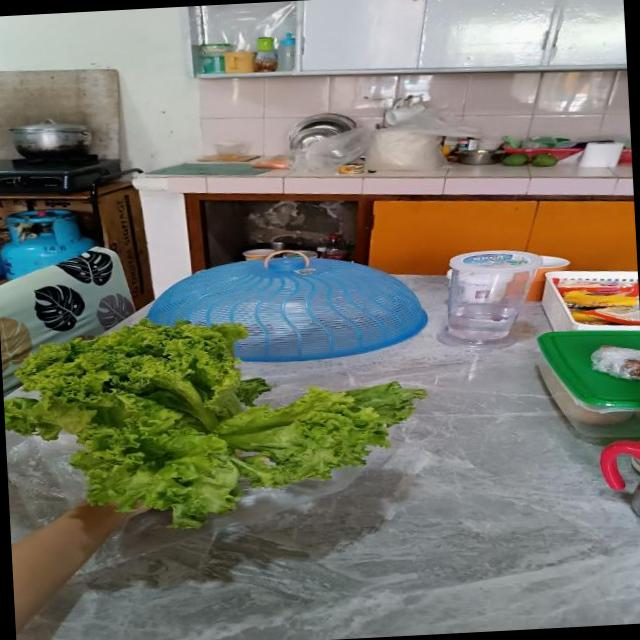Lettuce-Ready-to-Harvest: (4, 321, 424, 527)
